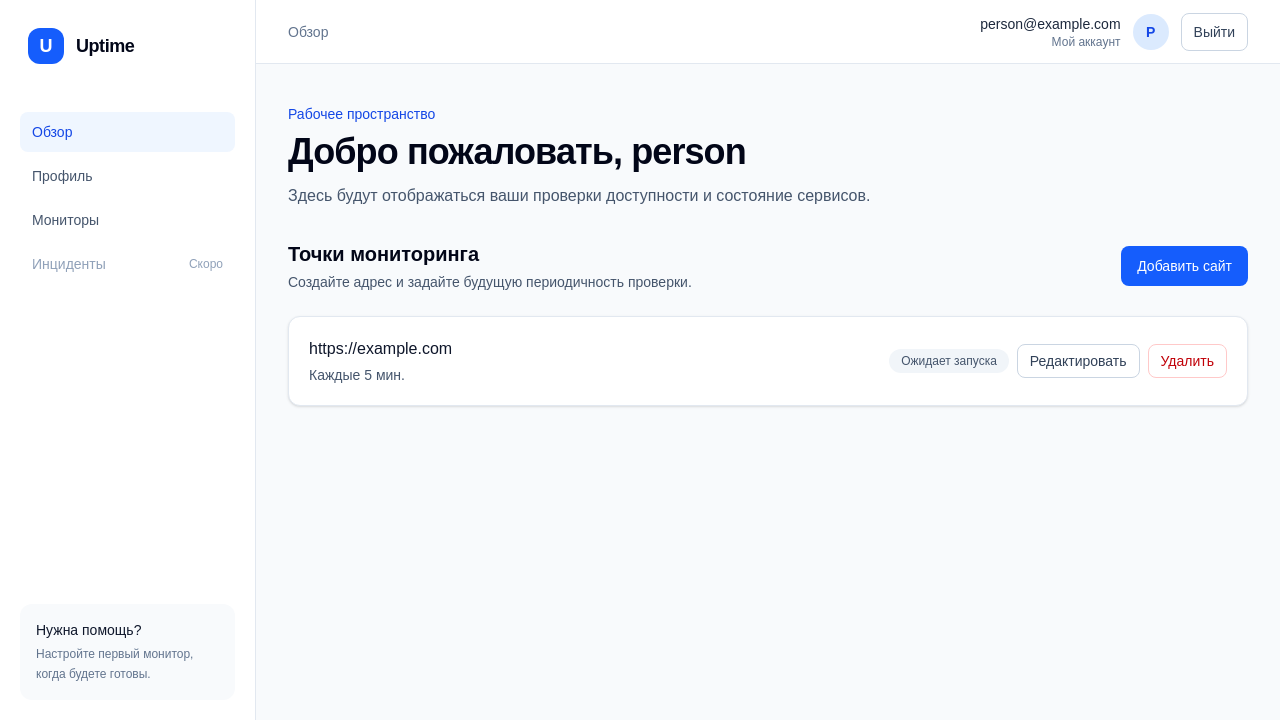
Scenario: DashboardPage › edits a monitor and updates the card
expect the text "https://example.com" is shown: met, box [309,337,452,361]
Click the button "Редактировать".
click(1078, 361)  # box [1017,344,1140,378]
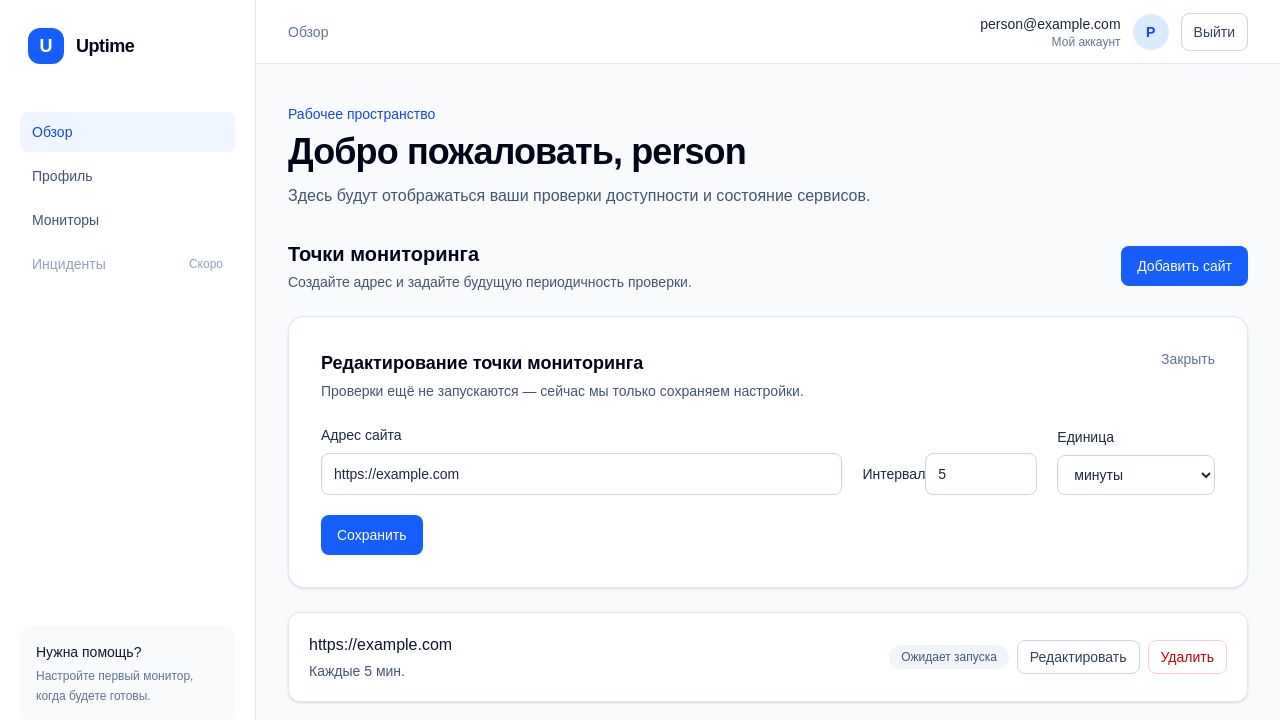
Type "https://updated.example.com" into the field labelled "Адрес сайта".
click(582, 474); type("https://updated.example.com")  # box [321,453,842,495]
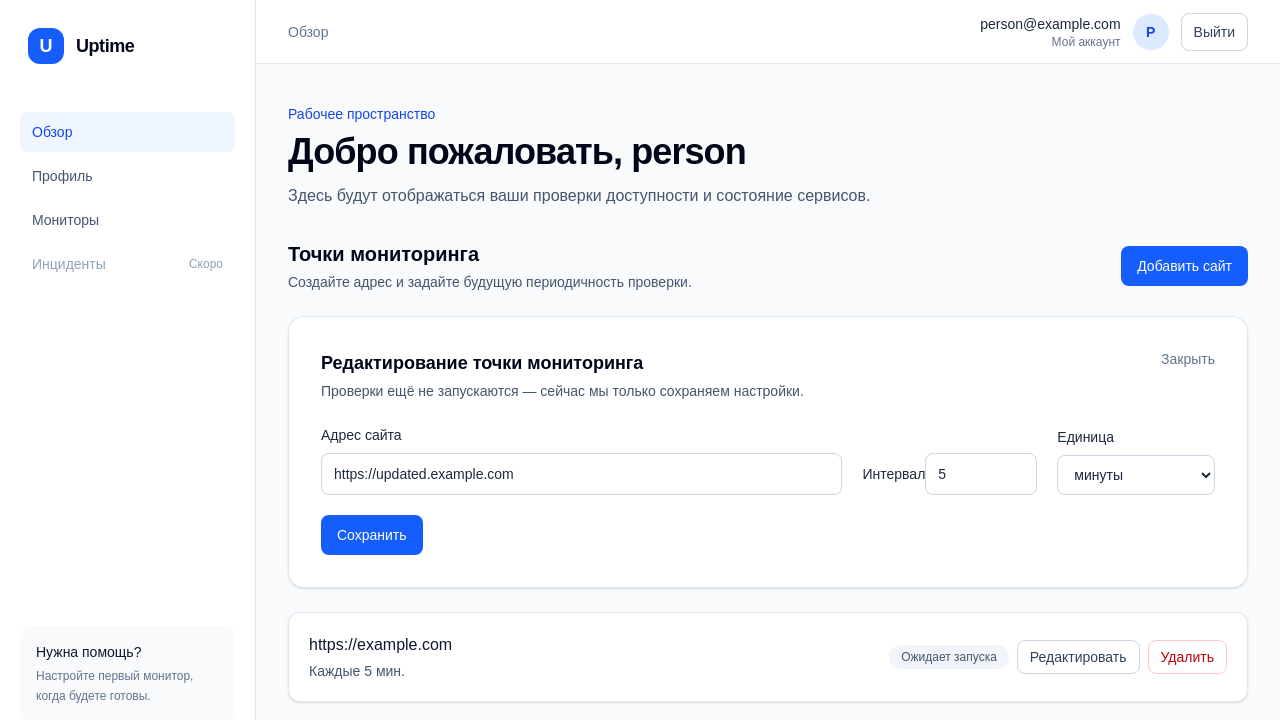
Replace the text in the number field labelled "Интервал" with "10" at (981, 474), box [925,453,1037,495]
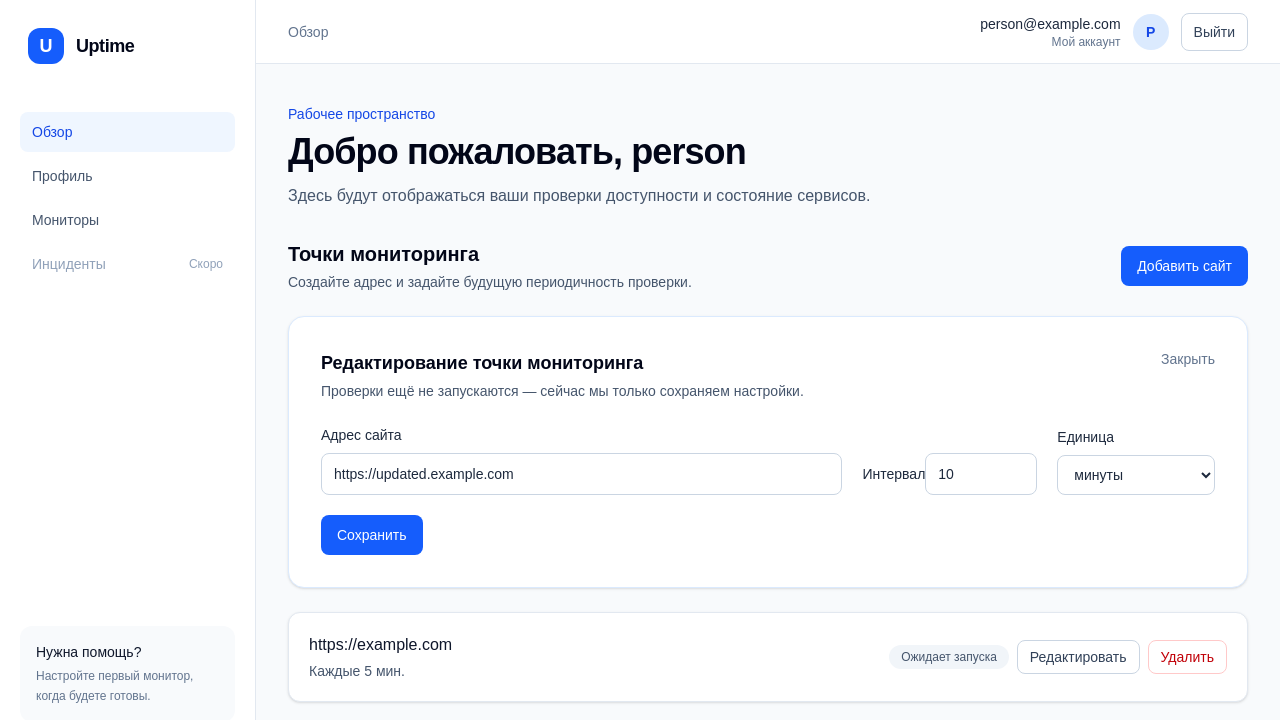
Click the button "Сохранить".
click(372, 535)  # box [321,515,423,555]
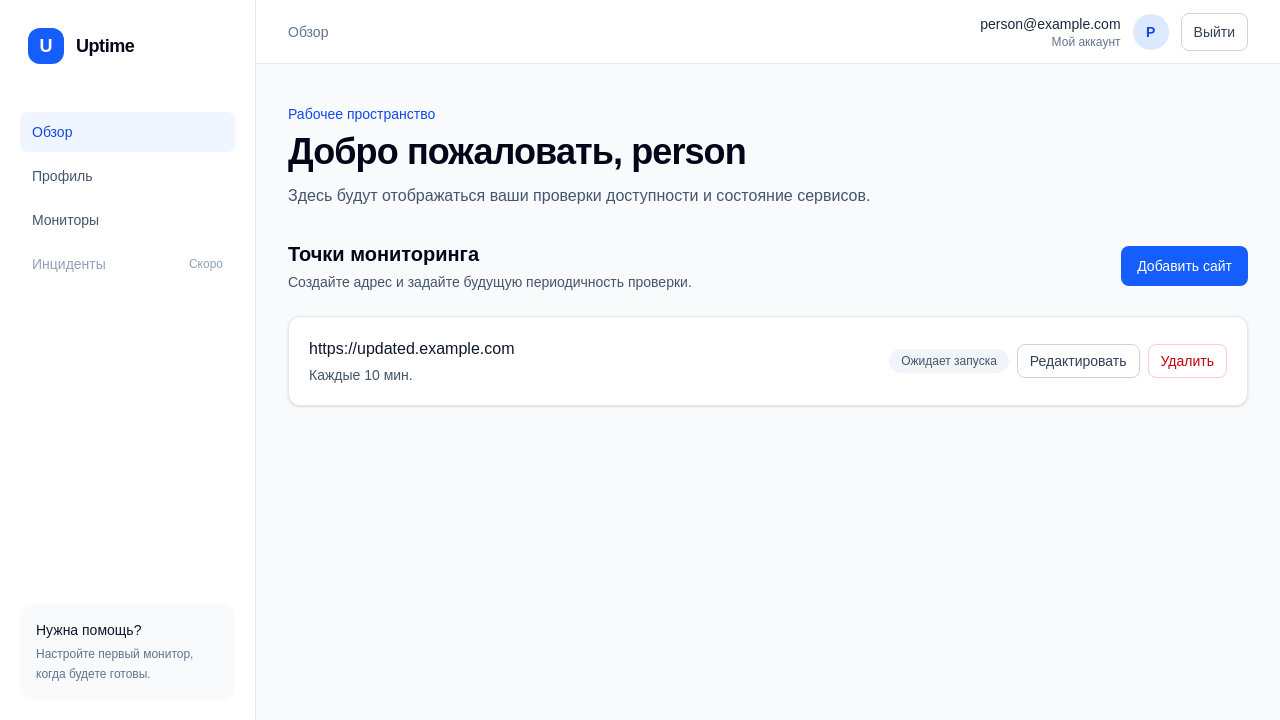
expect the text "https://updated.example.com" is shown: met, box [309,337,514,361]
expect the text "Каждые 10 мин." is shown: met, box [309,367,413,383]
